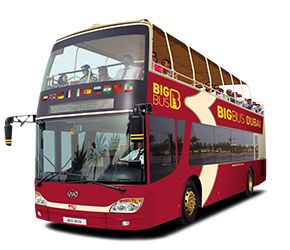bus: (33, 14, 272, 233)
